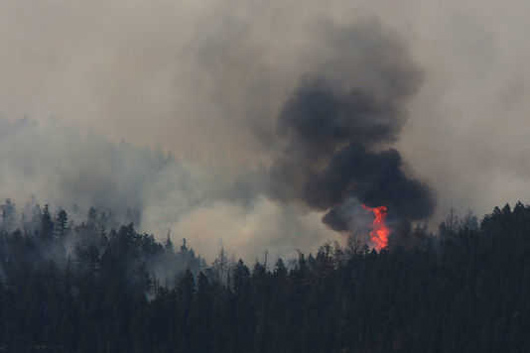fire: (360, 204, 393, 255)
yanwu: (1, 0, 442, 261)
